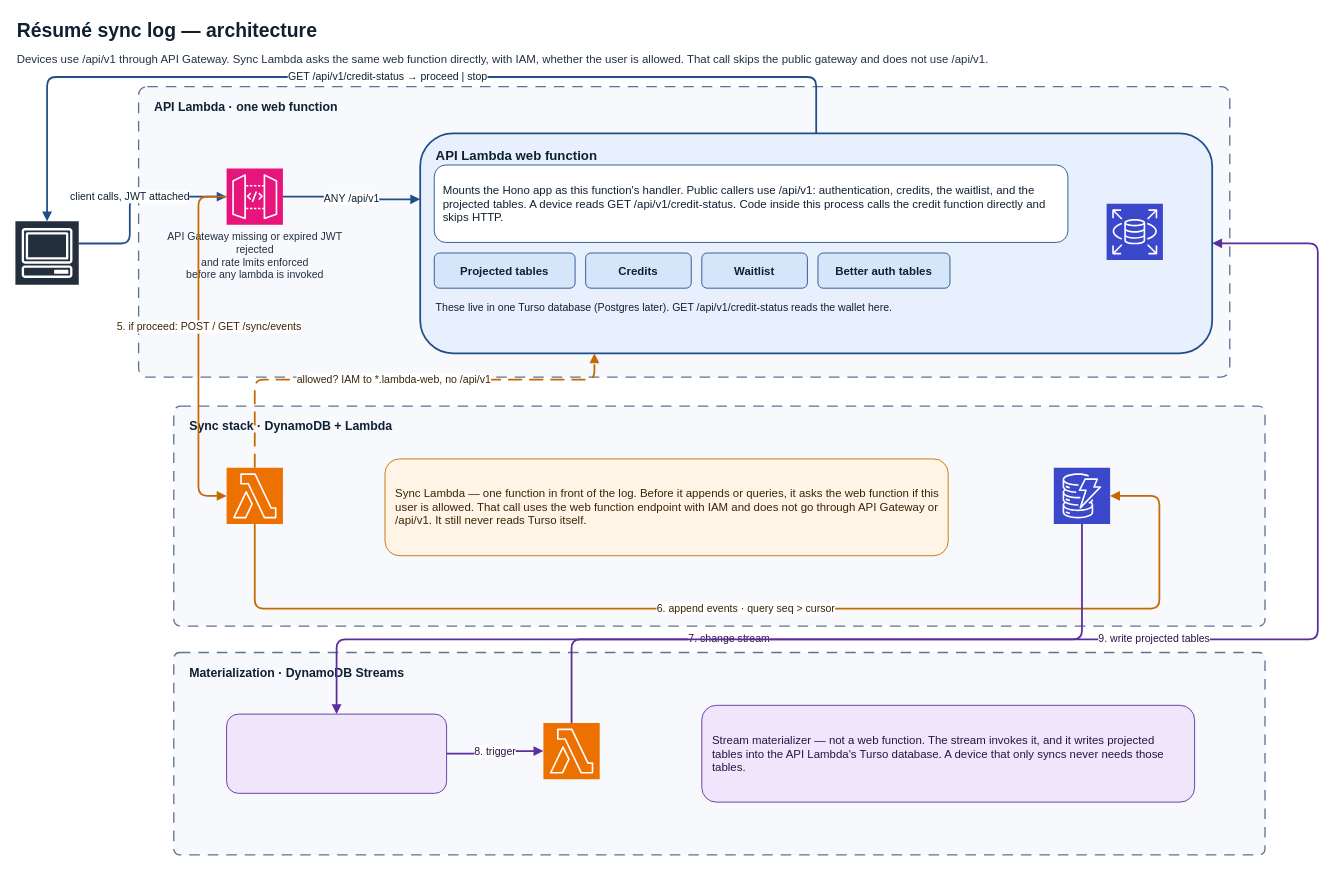
Some shapes in this 1341 by 870 pixel diagram are drawn without their labels. Each missing label, with the centre of its shape:
"Device" belongs at (x=47, y=252).
"DynamoDB Streams change stream on the event log" belongs at (x=336, y=753).
"Event log" belongs at (x=1081, y=495).
"Materializer" belongs at (x=571, y=750).
"Sync Lambda" belongs at (x=254, y=495).
"Turso / Postgres" belongs at (x=1134, y=231).
